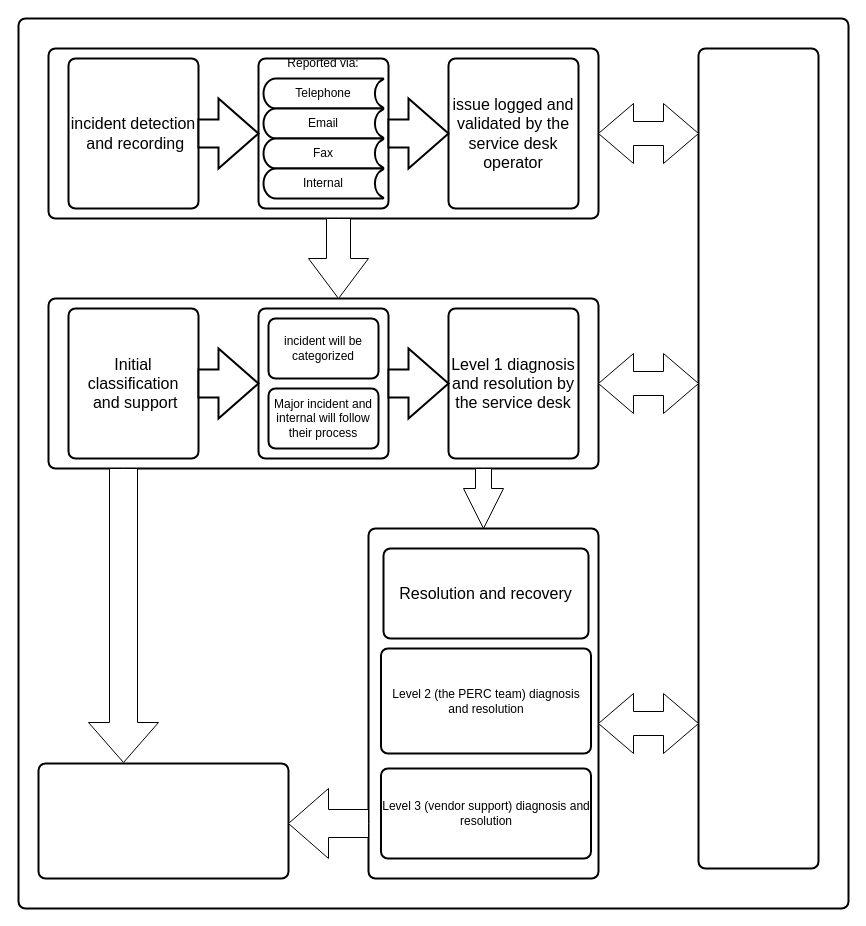
Image size: 866x926. Some labels were removed from this diagram. The centre of each missing label's shape, as x and y in pixels:
"Incident closed after user confirmation" belongs at [163,820].
"Incident progression monitored, tracked, and communicated" belongs at [758,458].
